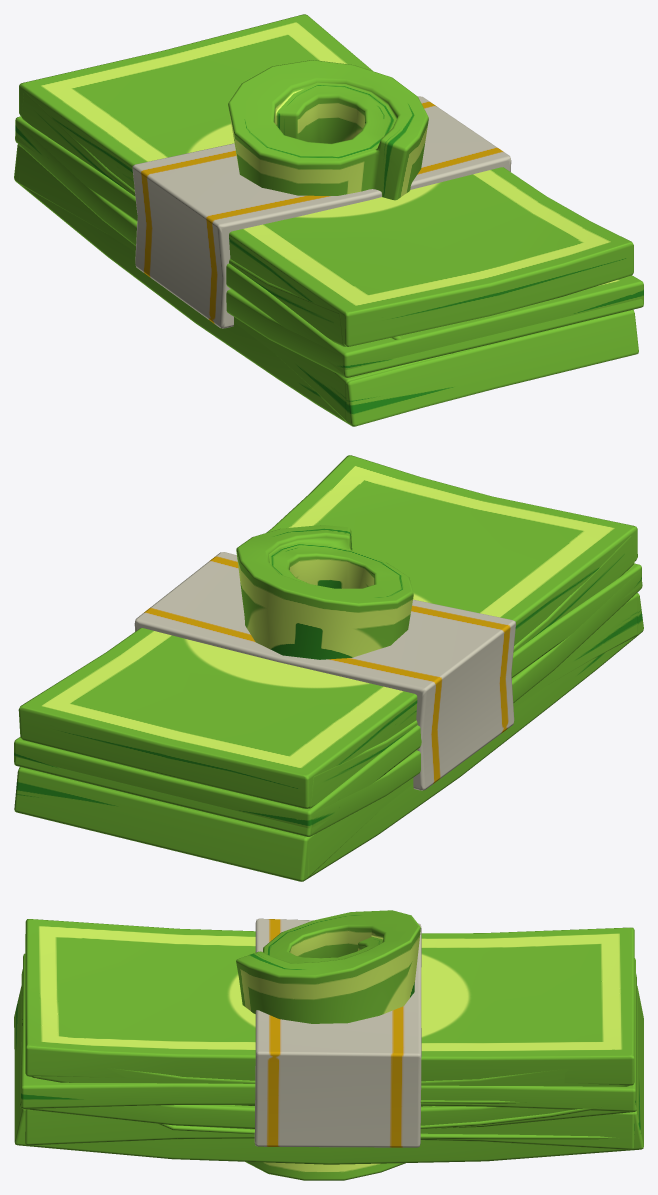
File: dollars_mesh.fbx
3 renders of one model, top to bottom at view 1: azimuth 30°, elevation 25°; view 2: azimuth 150°, elevation 25°; view 3: azimuth 270°, elevation 25°, orthographic. The views are drawn at different scales.
Visible parts, largest first — view 1: dolllar_c, dolllar_o, dolllar_o_bend, dollar_roll; view 2: dolllar_c, dolllar_o, dolllar_o_bend, dollar_roll; view 3: dolllar_c, dolllar_o, dolllar_o_bend, dollar_roll, dollar_02, dollar_03.
Part boxes in pixels (x1,y1,x2,y2): dolllar_c: (19, 14, 643, 344); dolllar_o: (15, 15, 641, 421); dolllar_o_bend: (14, 91, 643, 426); dollar_roll: (228, 60, 428, 200); dolllar_c: (14, 455, 633, 836); dolllar_o: (16, 455, 641, 877); dolllar_o_bend: (14, 536, 643, 881); dollar_roll: (236, 525, 413, 659); dolllar_c: (21, 918, 635, 1149); dolllar_o: (21, 919, 635, 1089); dolllar_o_bend: (14, 969, 643, 1164); dollar_roll: (236, 910, 420, 1180); dollar_02: (158, 1123, 619, 1139); dollar_03: (420, 1105, 610, 1129).
Bounding box in the file's own units: 0.4304 × 0.3201 × 0.8466.
Materials: 1 (1 with a texture image).
